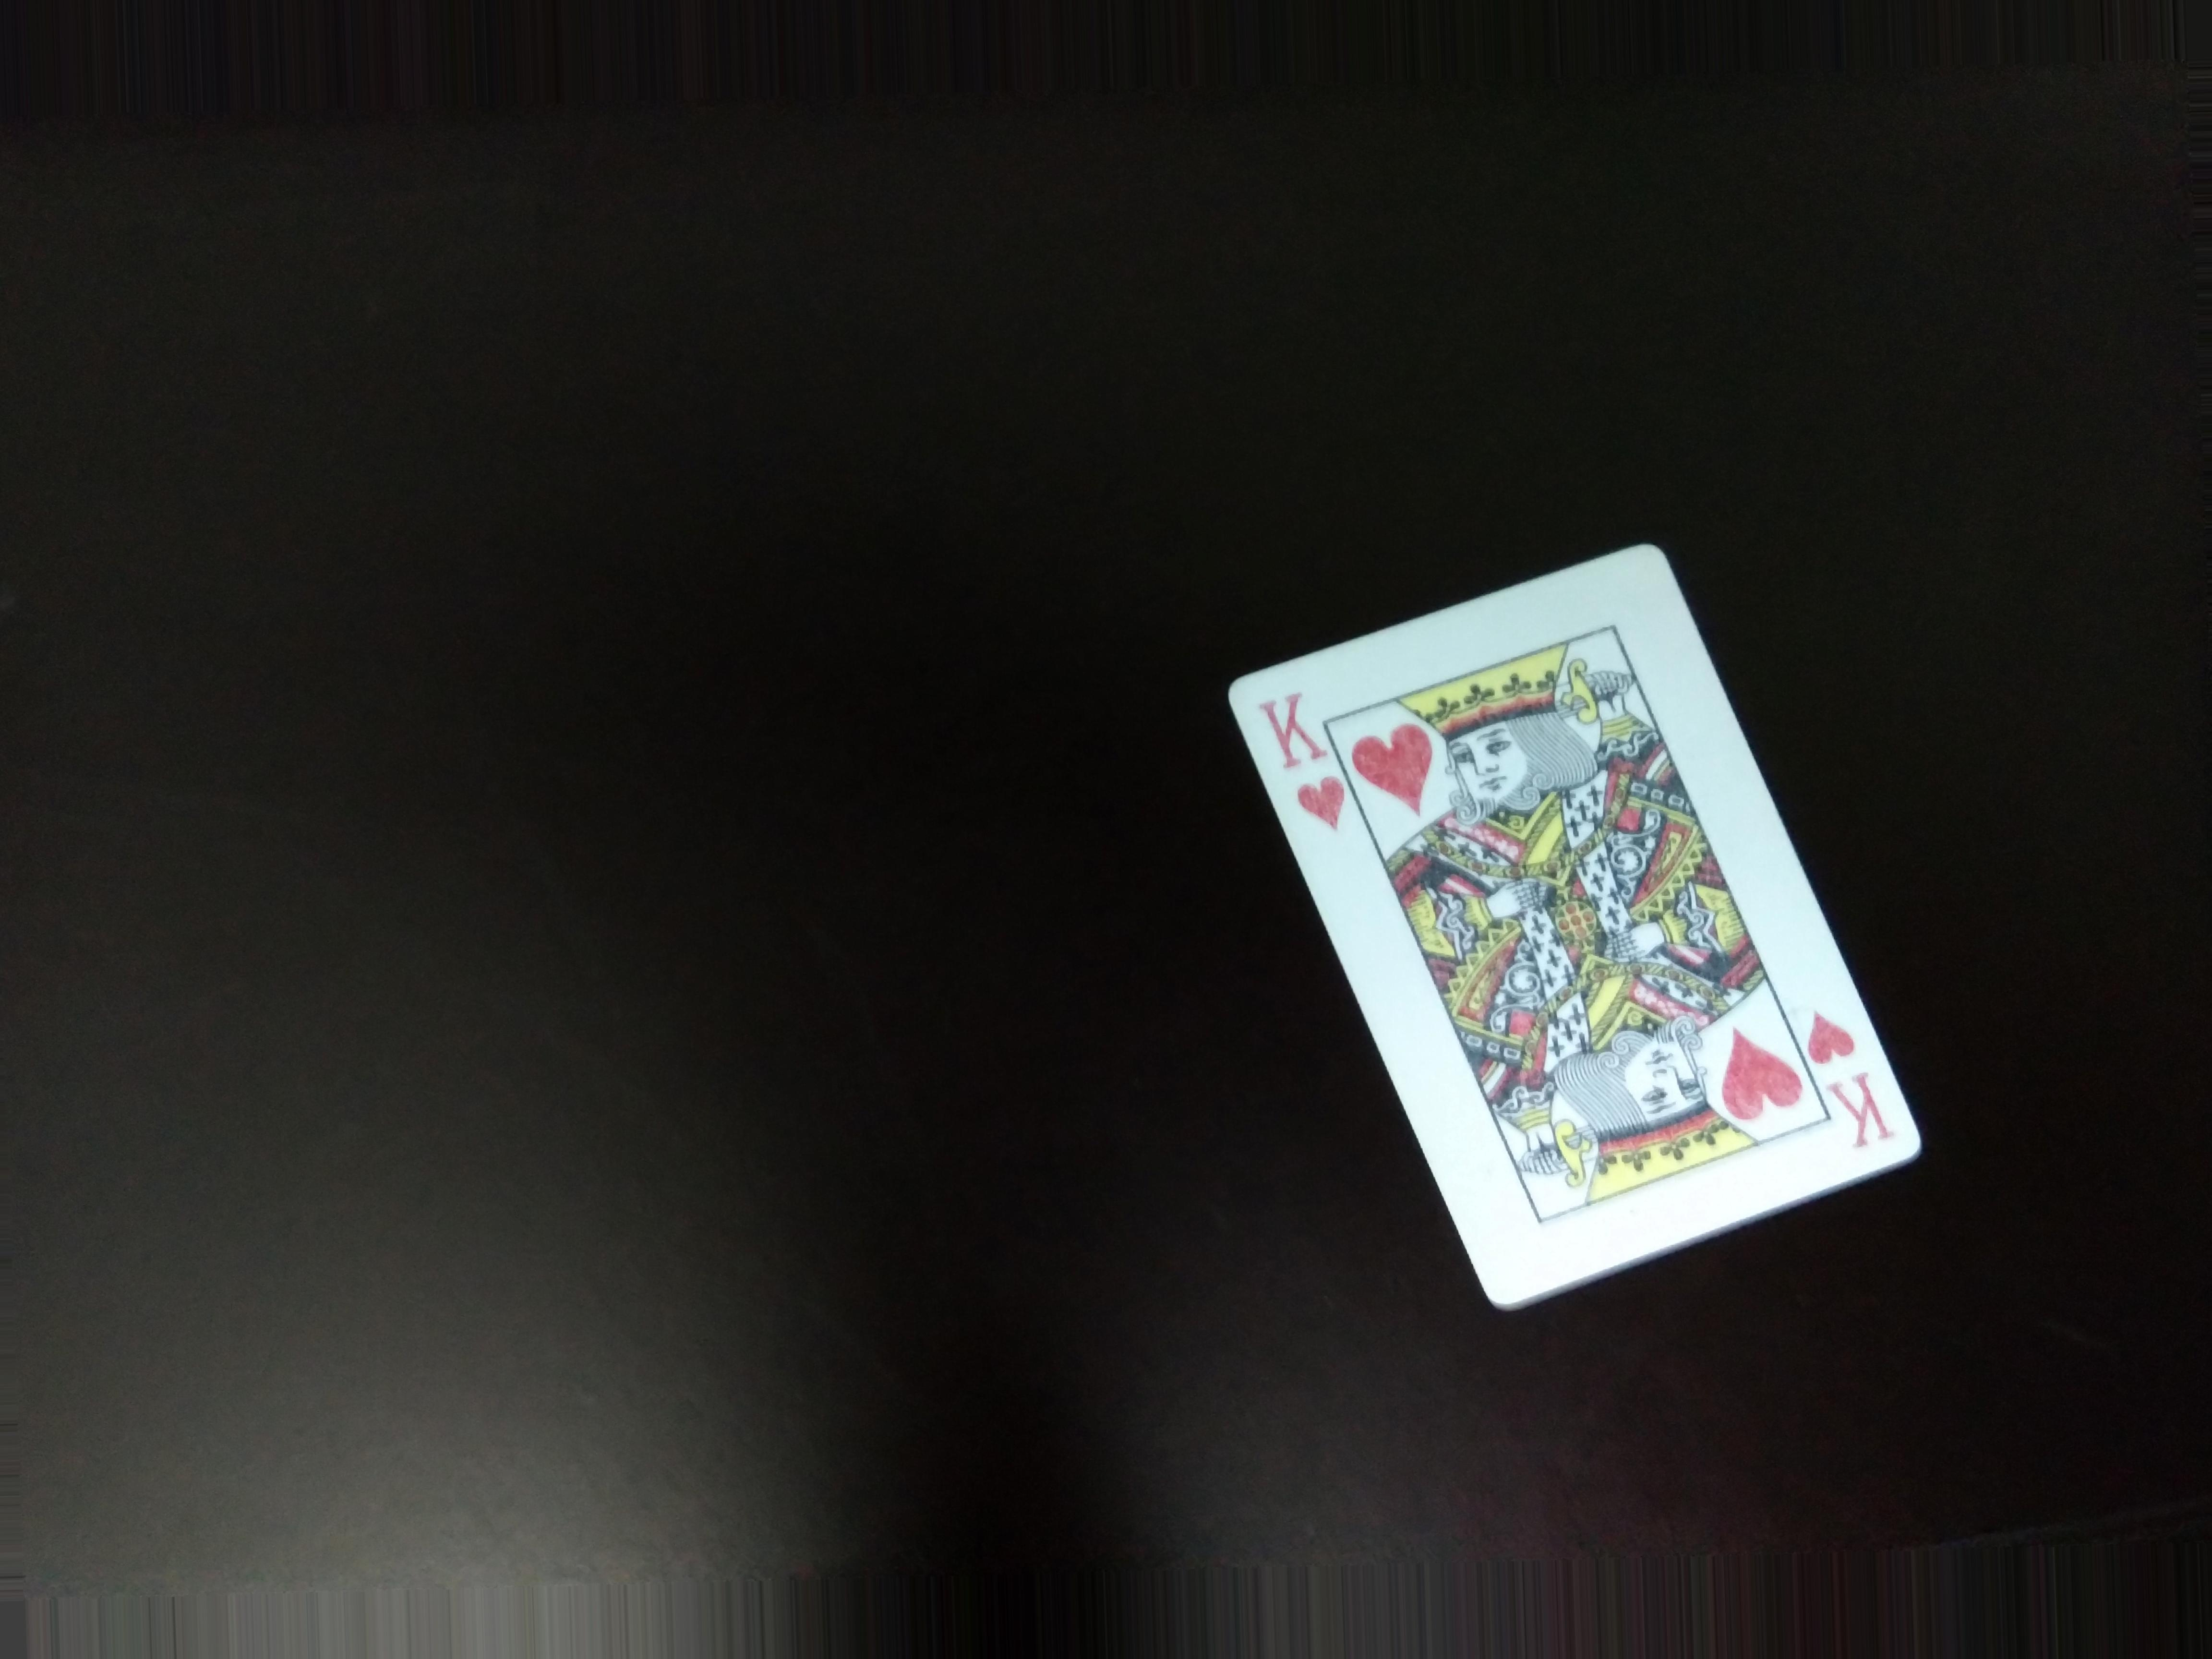KH: (1254, 688, 1350, 824)
